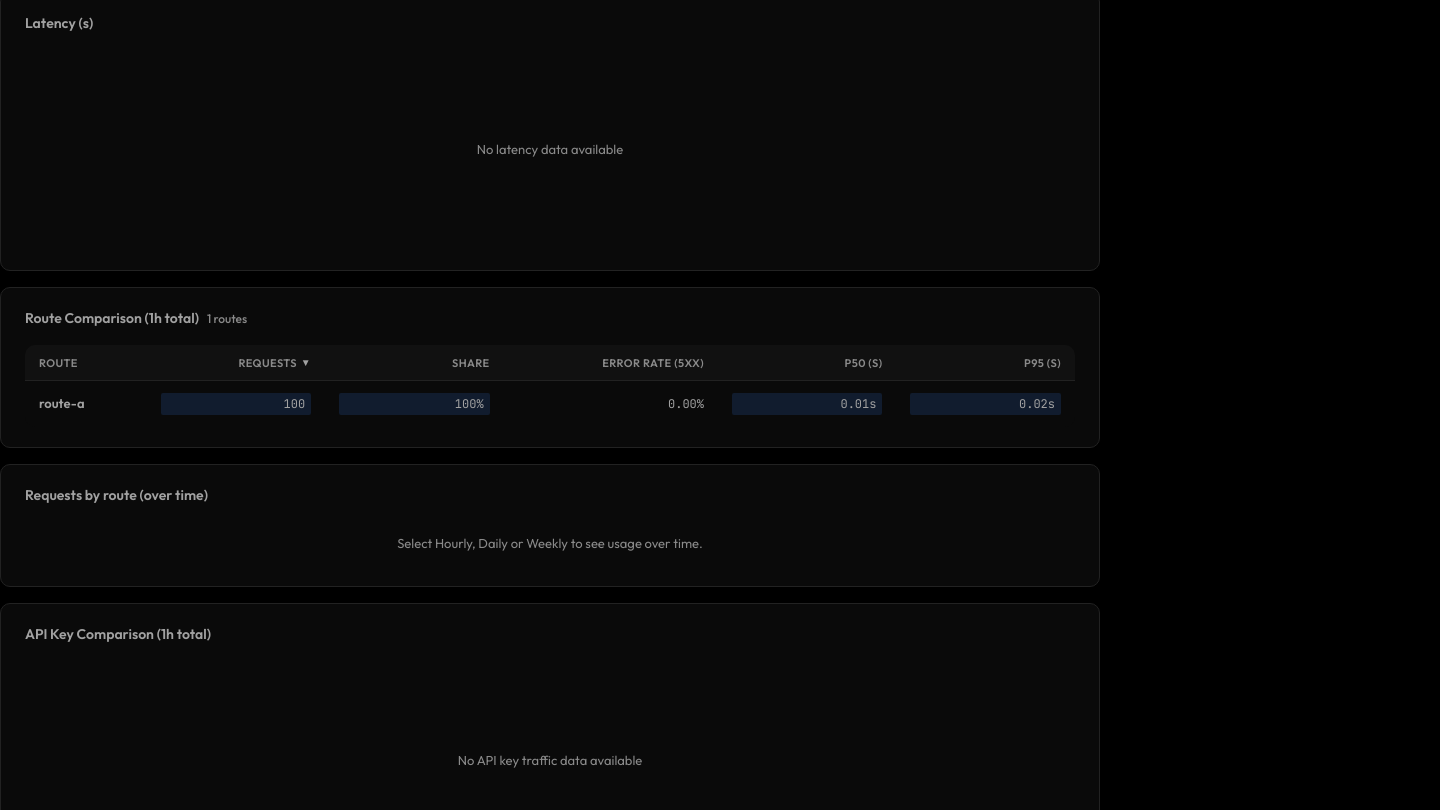
Test: GatewayMonitoring › shows route-detail load failure when the selected route summary fails
The width and height of the screenshot is (1440, 810).
(page scrolled)
Click the button with aria-label "Open route details for route-a" at (62, 403), box [25, 381, 1075, 427]
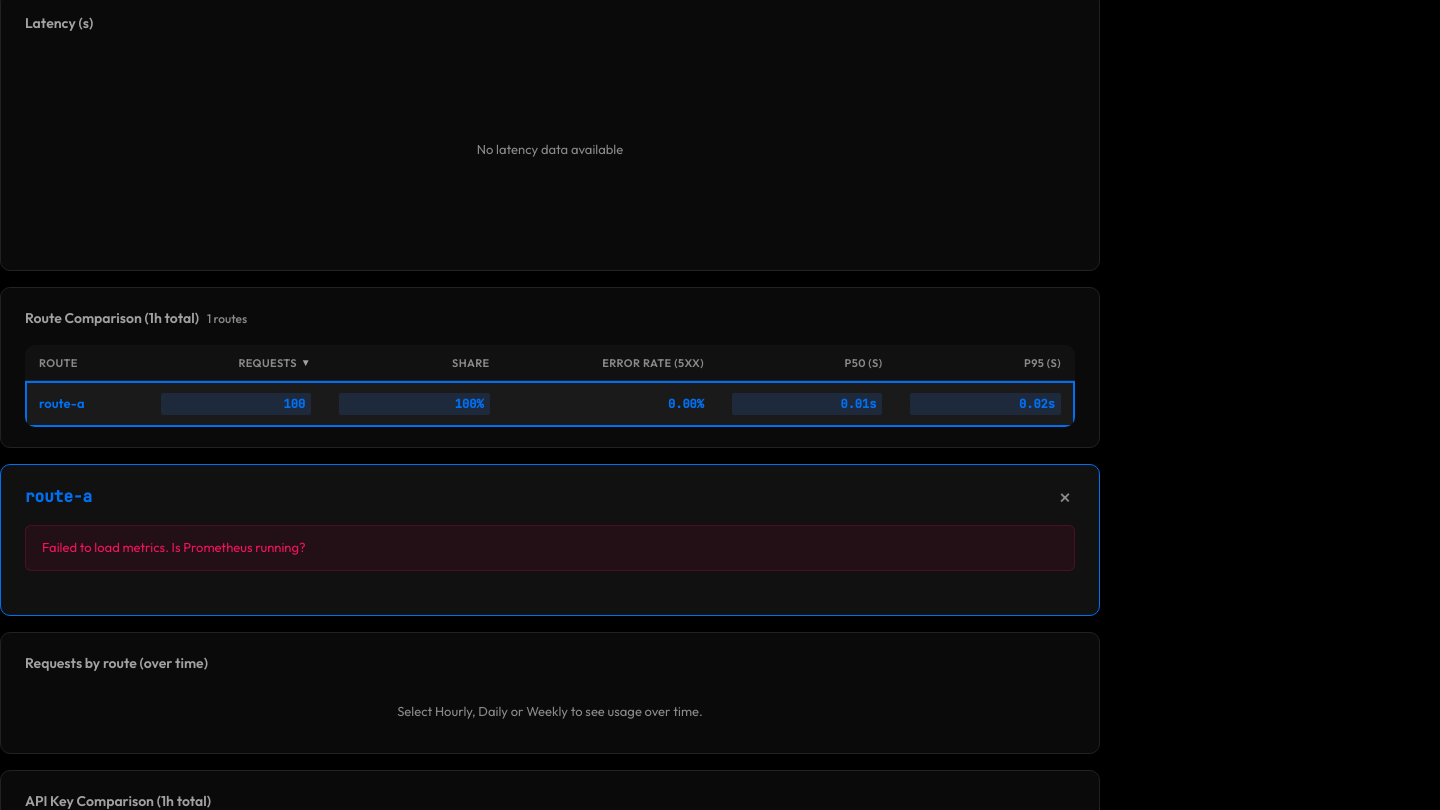
Now the text "Failed to load metrics. Is Prometheus running?" is shown, box [25, 525, 1075, 570]
Now the message reads "Failed to load metrics. Is Prometheus running?", box [42, 539, 306, 555]
